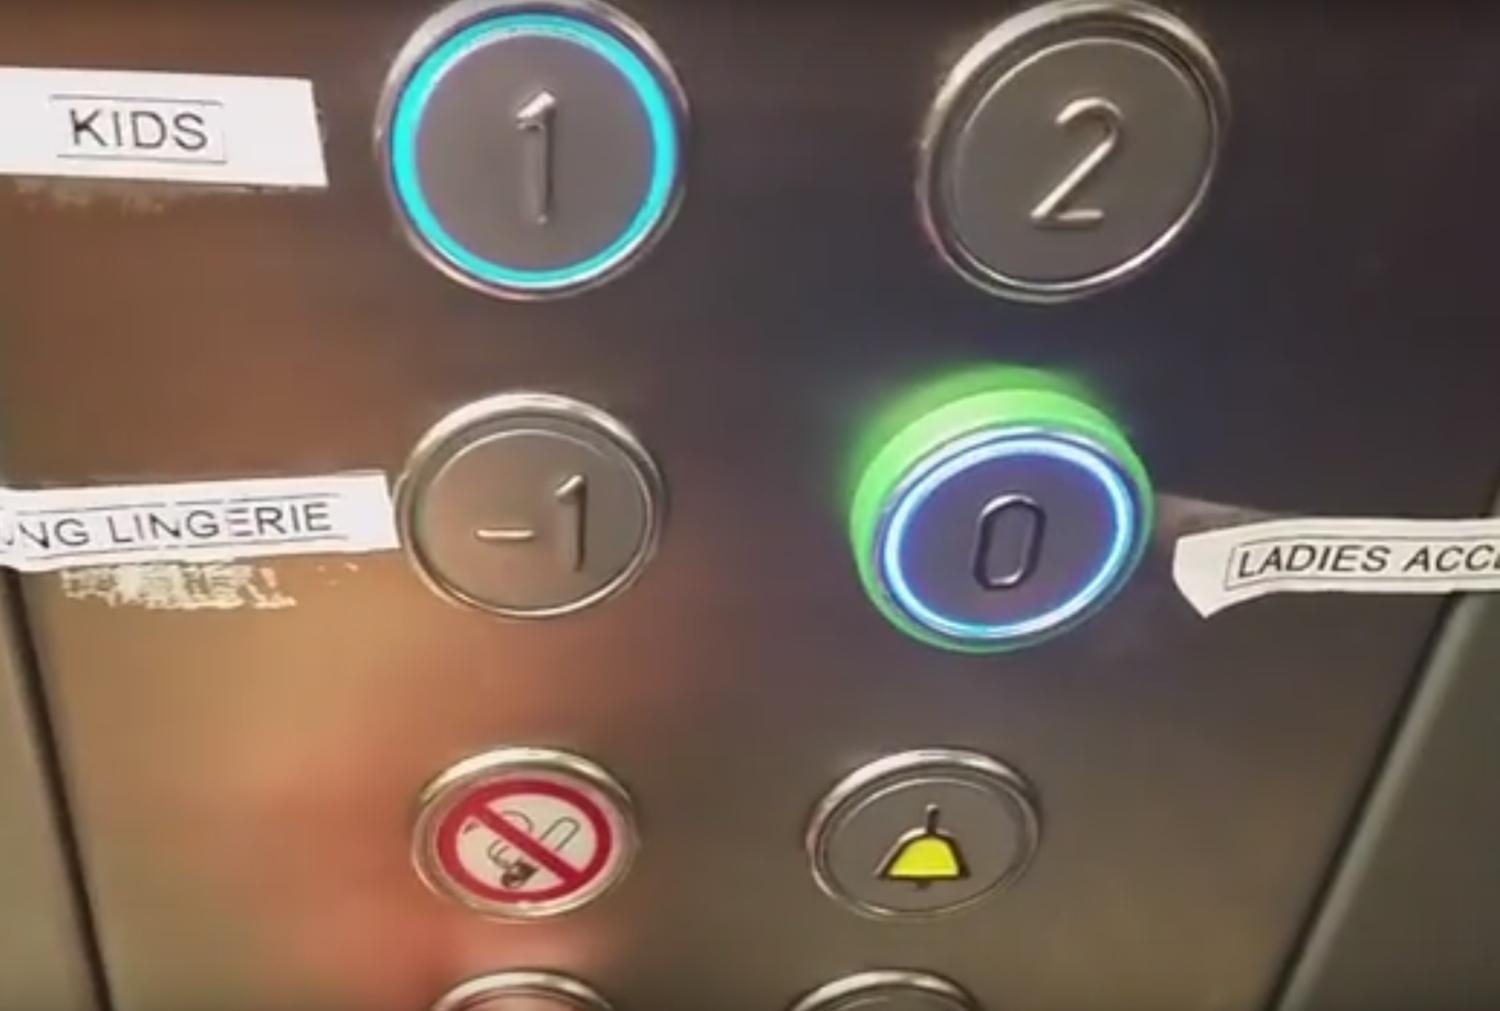-1: (389, 387, 667, 628)
0: (838, 360, 1161, 658)
1: (365, 1, 692, 304)
2: (909, 1, 1236, 304)
alarm: (797, 738, 1045, 918)
unknown: (409, 744, 648, 926)
